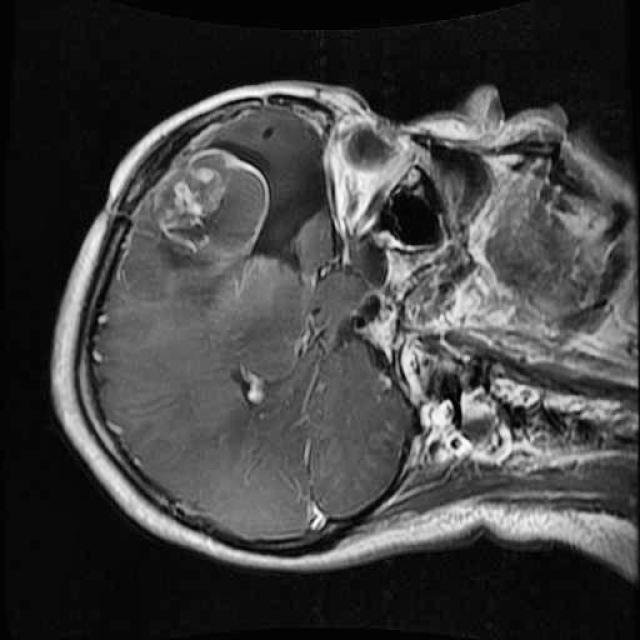Tumor: (147, 128, 287, 292)
